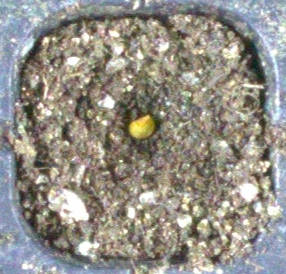chilli seed: (127, 114, 154, 138)
